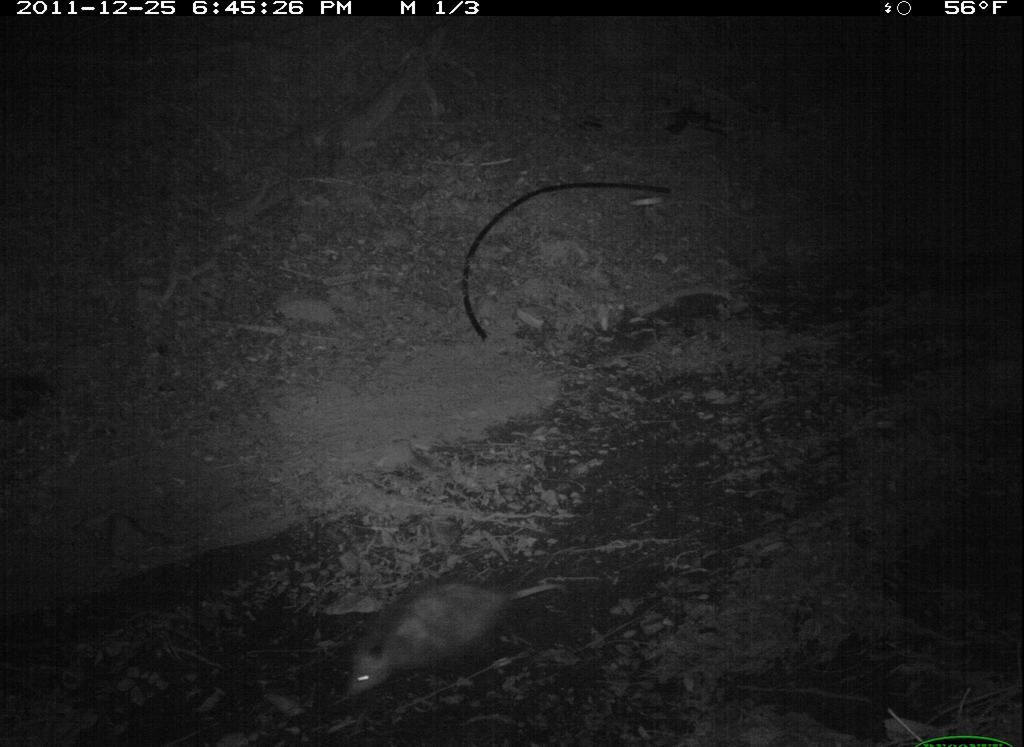opossum: (333, 560, 568, 707)
